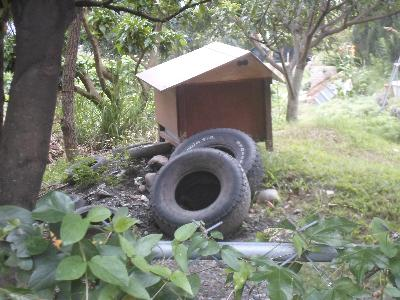tire: (150, 146, 252, 237), (125, 141, 172, 158)
